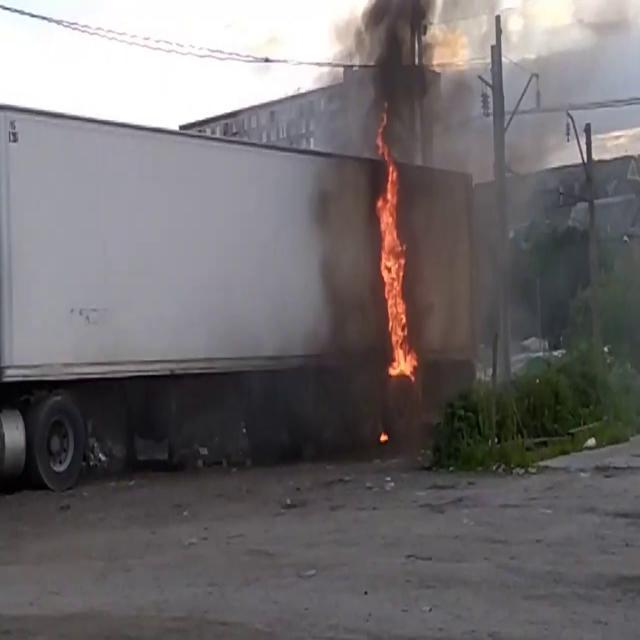Fire: (372, 120, 418, 384)
Smoke: (413, 4, 640, 400)
